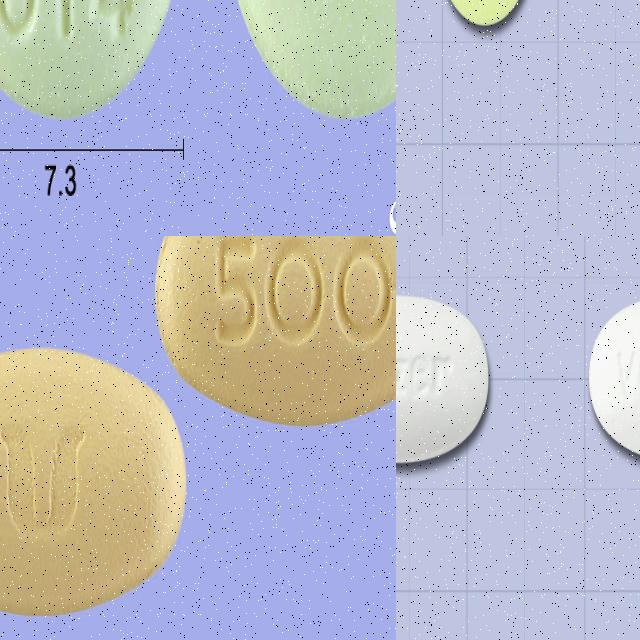Immuthera: (0, 0, 188, 115), (222, 0, 396, 120)
Levo F: (0, 343, 186, 614), (156, 236, 396, 425)
Viramid Cap: (396, 295, 489, 463), (589, 294, 640, 462)
